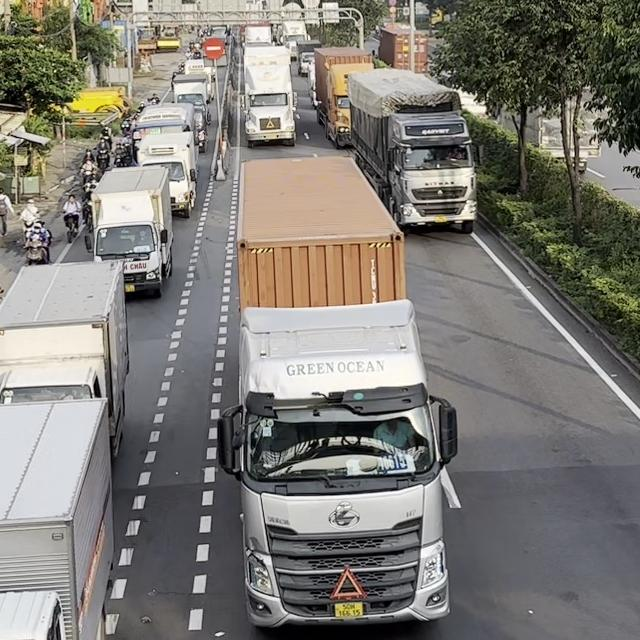motorcycle: (23, 231, 49, 266), (62, 211, 80, 243)
truck: (216, 157, 457, 629), (0, 396, 117, 639), (0, 259, 129, 458), (347, 67, 478, 234), (83, 165, 174, 298), (309, 46, 374, 149), (242, 45, 297, 147), (136, 130, 198, 217)
